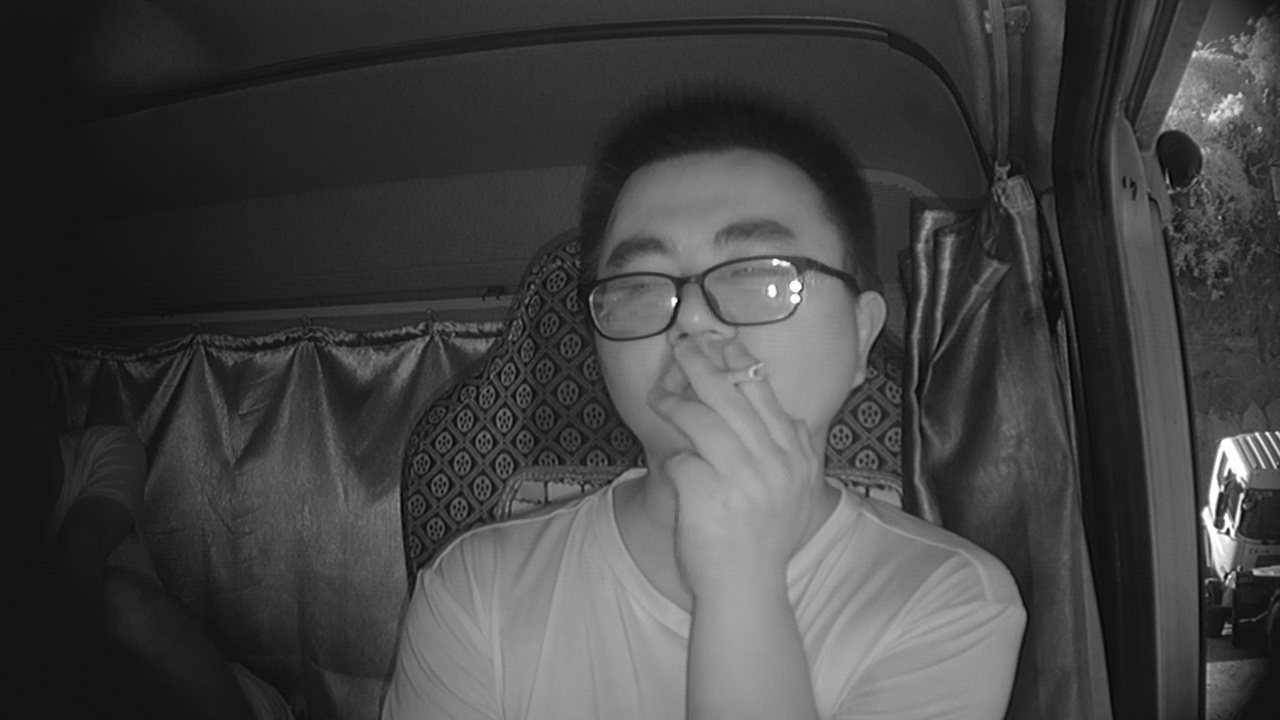hand: (640, 345, 807, 546)
